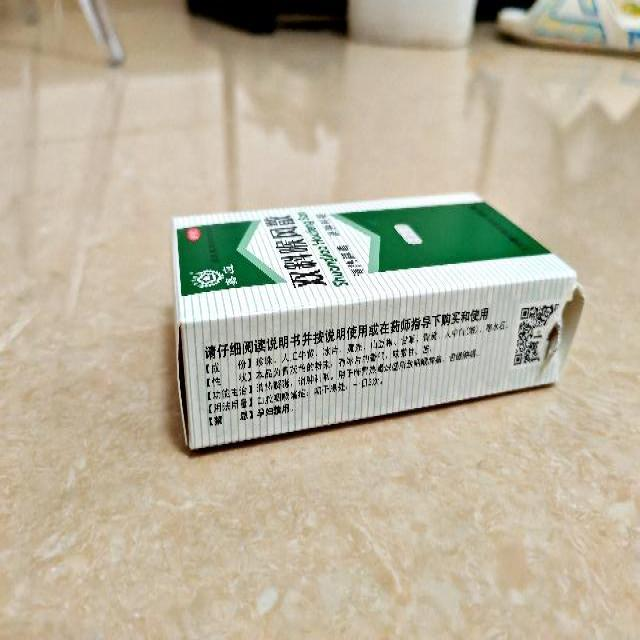box: (170, 192, 580, 454)
